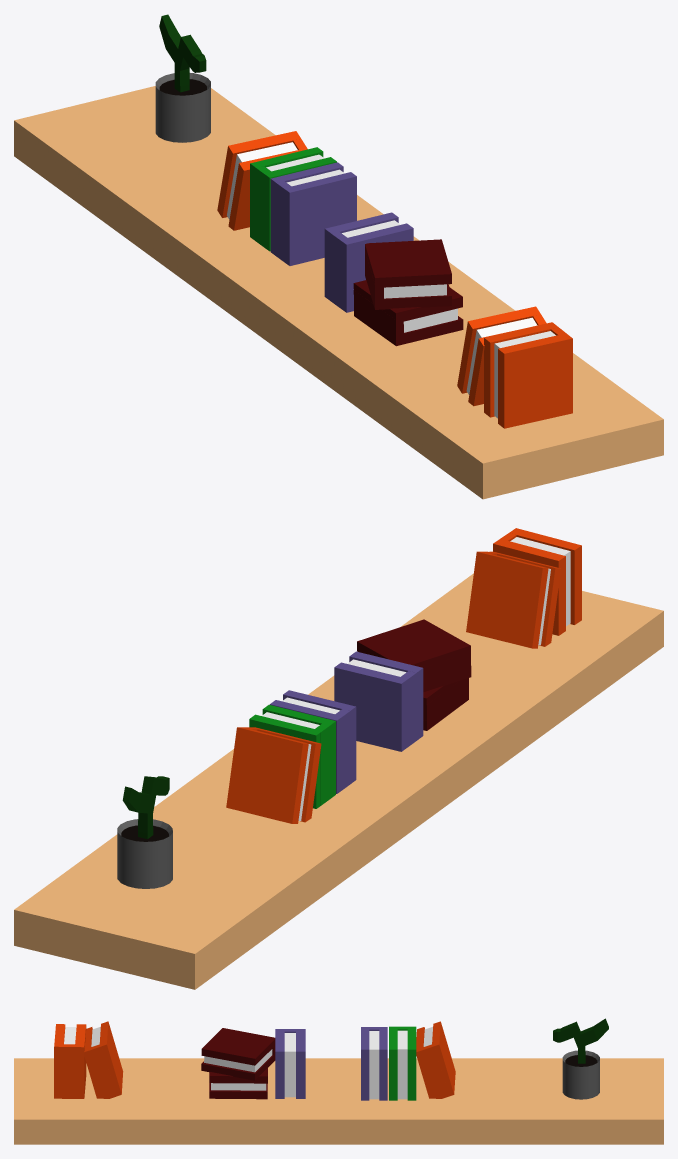
Rendered from Shelves.DAE.
3 renders of one model, top to bottom at view 1: azimuth 30°, elevation 25°; view 2: azimuth 150°, elevation 25°; view 3: azimuth 270°, elevation 25°, orthographic. The views are drawn at different scales.
Visible parts, largest first — view 1: Box004; view 2: Box004; view 3: Box004.
Boxes of the visible parts, bbox=[...] form: Box004: bbox=[14, 14, 663, 499]; Box004: bbox=[14, 528, 663, 989]; Box004: bbox=[14, 1018, 663, 1144].
Size of the model in its own units: 0.2263 by 0.1735 by 1.01.
